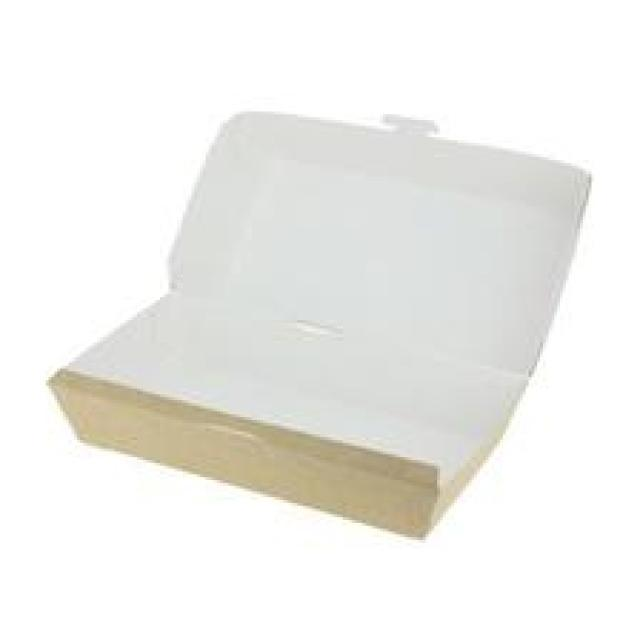Cardboard: (48, 116, 595, 542)
